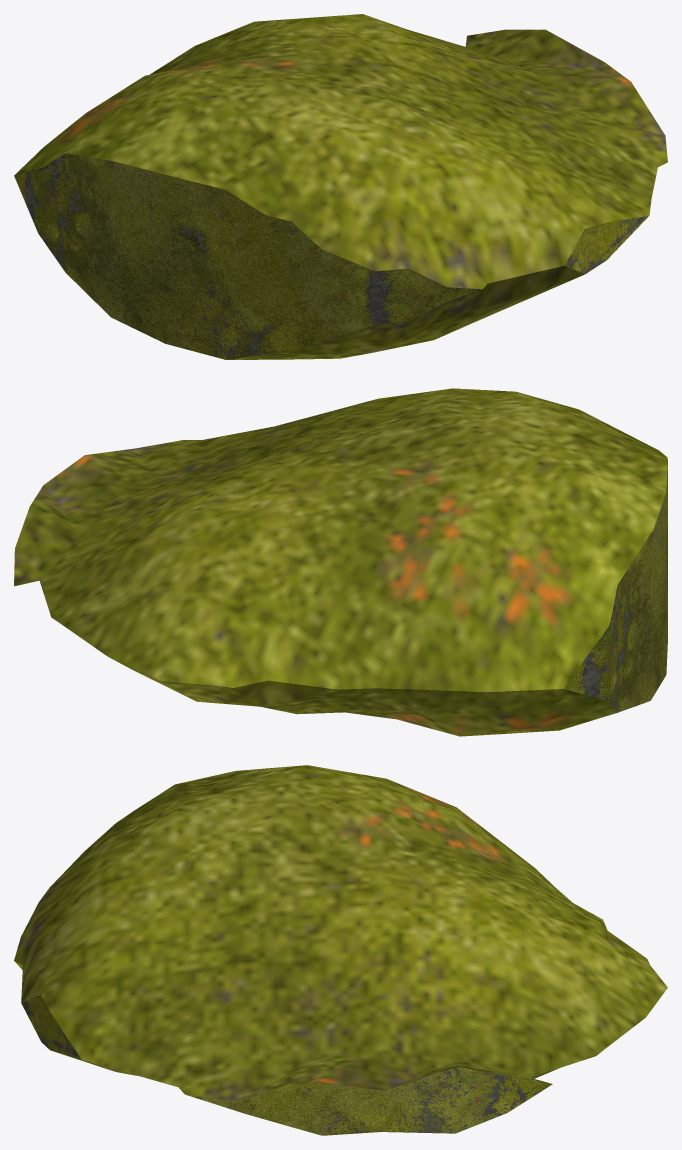
Rendered from SM_MossClump_02.fbx.
3 renders of one model, top to bottom at view 1: azimuth 30°, elevation 25°; view 2: azimuth 150°, elevation 25°; view 3: azimuth 270°, elevation 25°, orthographic. The views are drawn at different scales.
Parts seen in each view (by area): view 1: SM_MossClump_02; view 2: SM_MossClump_02; view 3: SM_MossClump_02.
Boxes of the visible parts, <box> form: SM_MossClump_02: <box>14,14,667,359</box>; SM_MossClump_02: <box>14,388,667,736</box>; SM_MossClump_02: <box>14,765,667,1135</box>.
Size of the model in its own units: 9.15 by 9.28 by 3.92.
